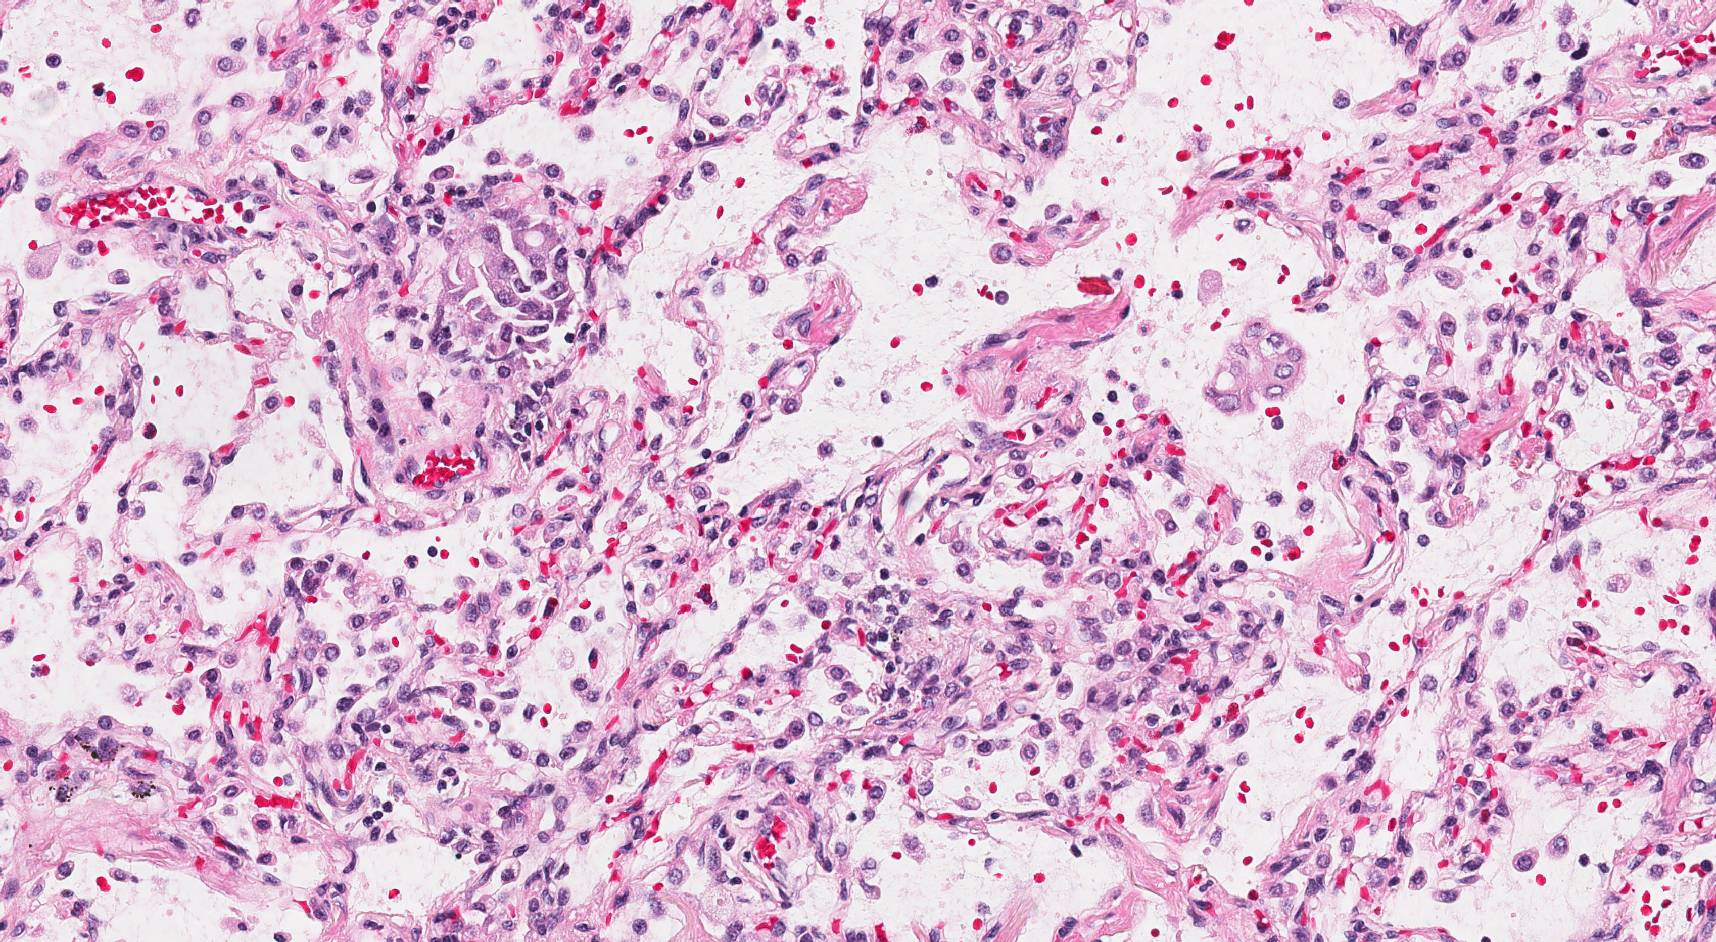stas: (431, 214, 575, 361), (1199, 317, 1307, 418)
